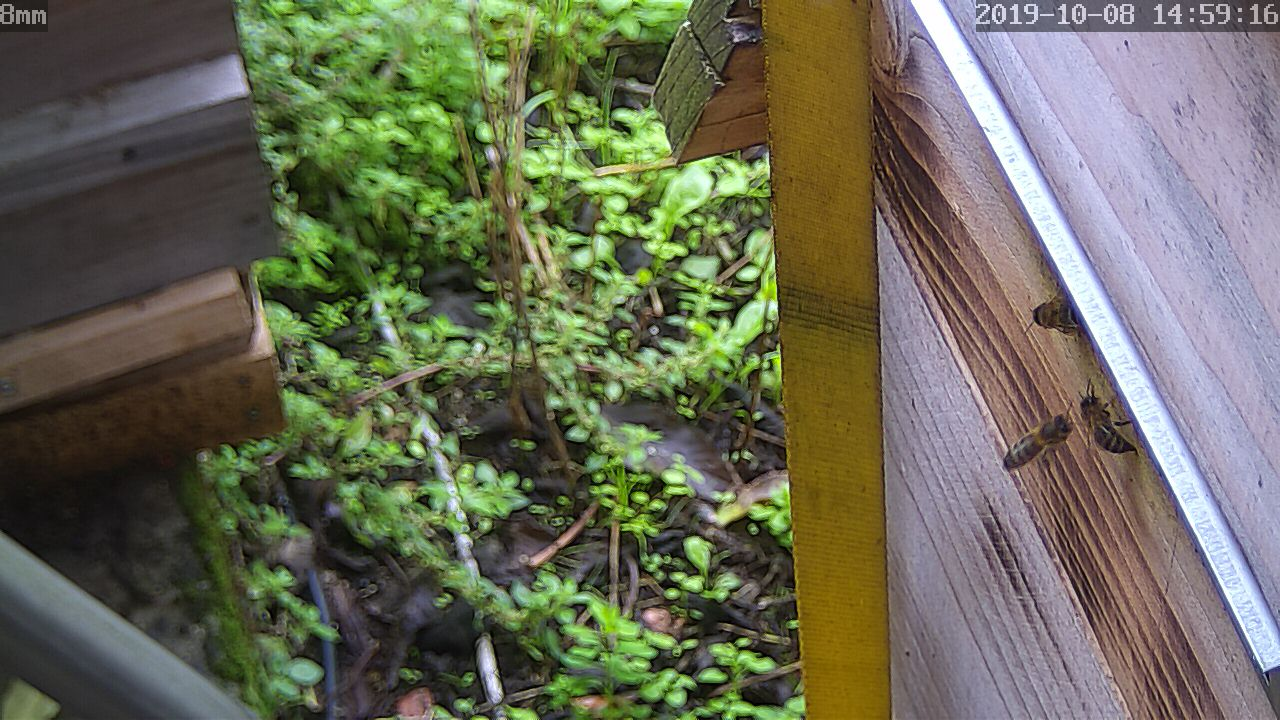bee: (1074, 386, 1145, 462), (1003, 410, 1076, 477), (1025, 286, 1086, 346)
